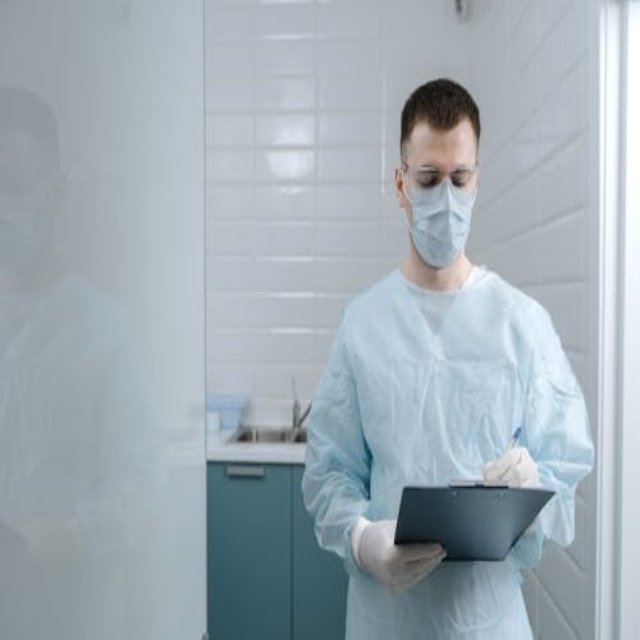Gafas: (405, 160, 479, 190)
Guantes: (346, 505, 447, 594), (480, 431, 544, 486)
Mascara: (407, 183, 479, 267)
